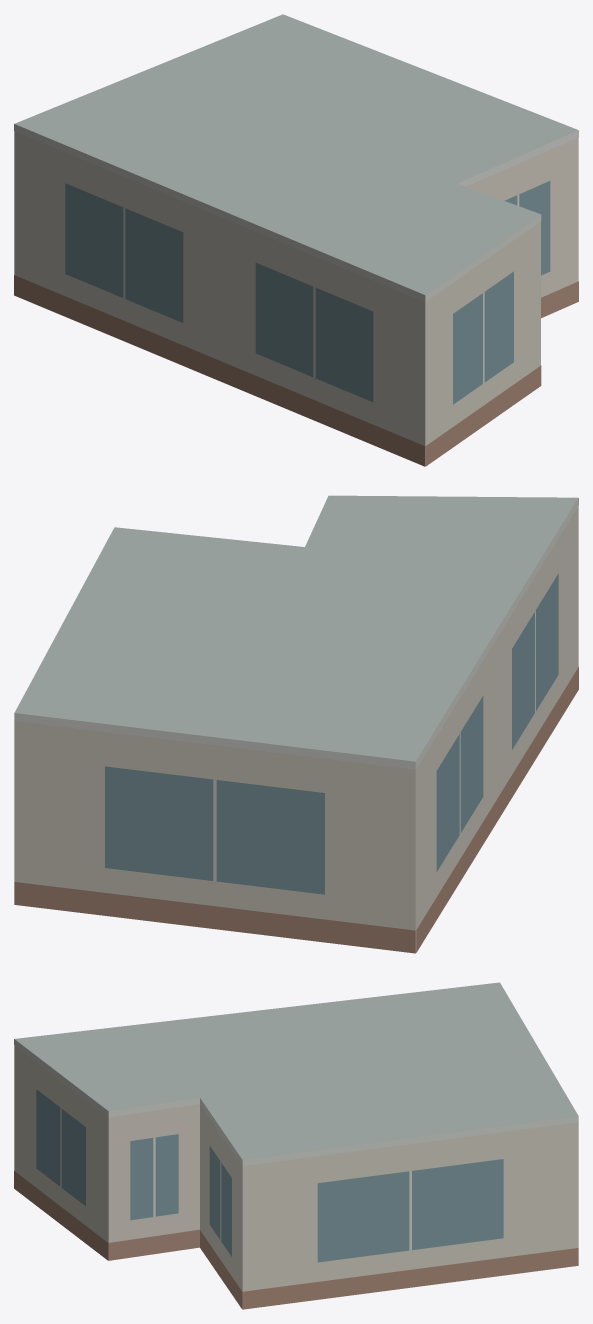
File: survey-upis-32723020.glb
3 views of the same model, one above another, from view 1: azimuth 30°, elevation 25°; view 2: azimuth 150°, elevation 25°; view 3: azimuth 270°, elevation 25° (orthographic). The views are drawn at different scales.
Parts seen in each view (by area): view 1: survey-upis-32723020.tmp; view 2: survey-upis-32723020.tmp; view 3: survey-upis-32723020.tmp.
Part boxes in pixels (bbox=[...]): survey-upis-32723020.tmp: bbox=[14, 14, 578, 466]; survey-upis-32723020.tmp: bbox=[14, 495, 578, 953]; survey-upis-32723020.tmp: bbox=[14, 982, 578, 1309].
Bounding box in the file's own units: 7.77 × 3.05 × 10.44.
